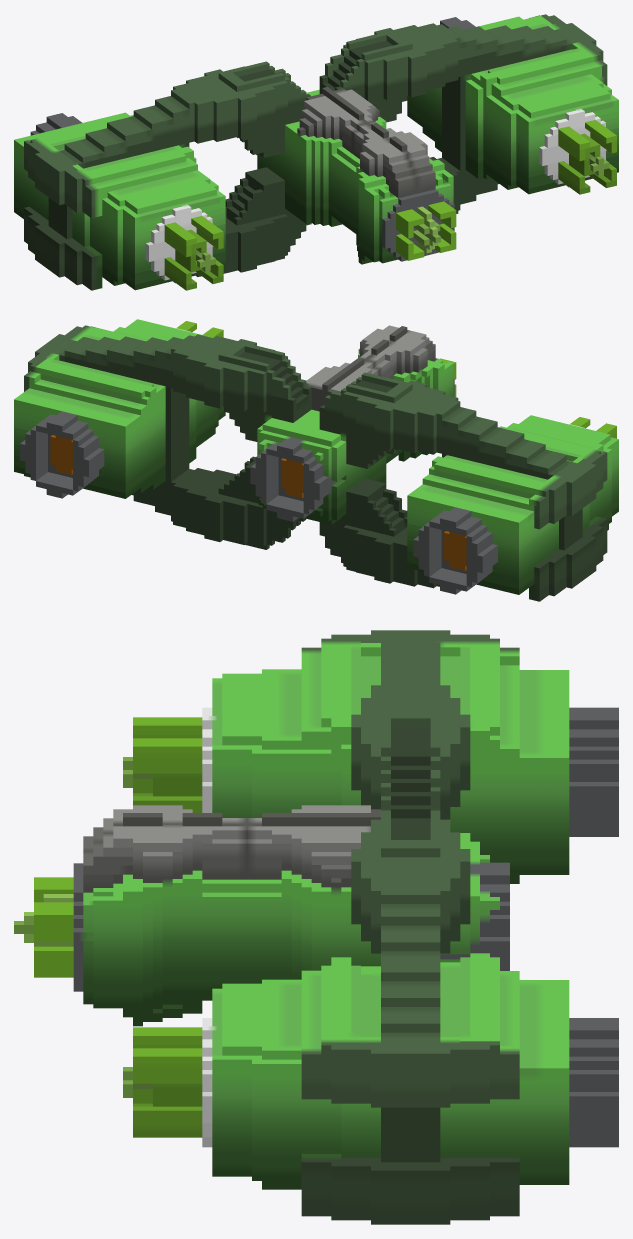
The model's file is GreenBossV1.4.dae.
The picture shows the model from 3 angles, top to bottom: view 1: azimuth 30°, elevation 25°; view 2: azimuth 150°, elevation 25°; view 3: azimuth 270°, elevation 25°; orthographic projection. The views are drawn at different scales.
Parts seen in each view (by area): view 1: GreenBossV1.4; view 2: GreenBossV1.4; view 3: GreenBossV1.4.
Part boxes in pixels (x1,y1,x2,y2): GreenBossV1.4: [14, 14, 618, 290]; GreenBossV1.4: [14, 319, 618, 601]; GreenBossV1.4: [14, 630, 618, 1224].
Size of the model in its own units: 101 by 33 by 61.
Materials: 1 (1 with a texture image).
